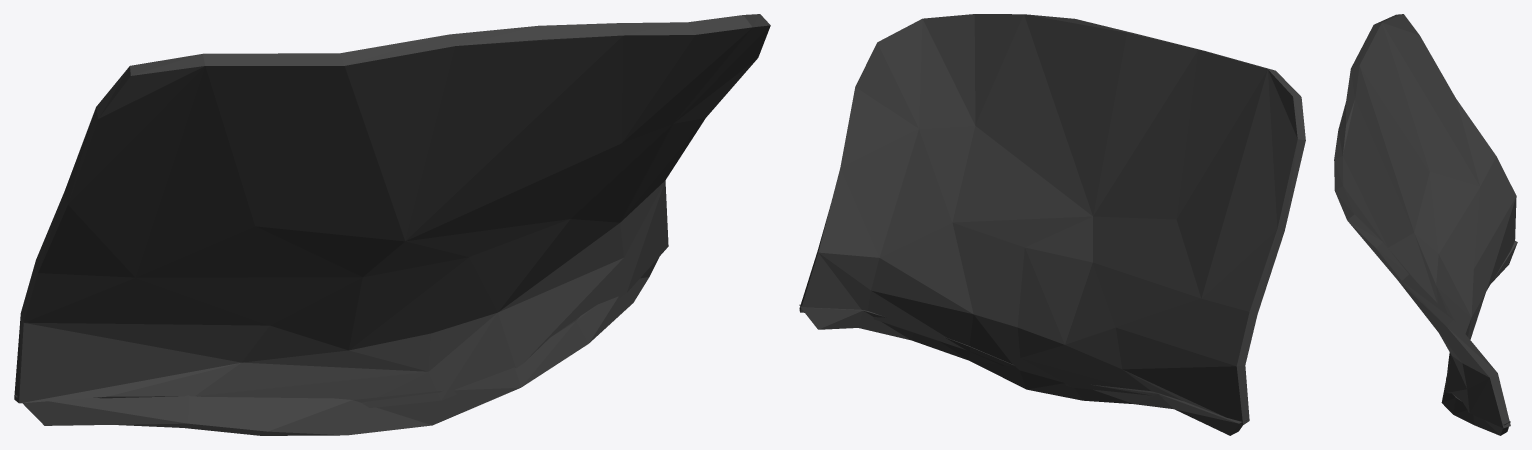
Rendered from c1_fovea_for_dens.glb.
3 renders of one model, left to right at view 1: azimuth 30°, elevation 25°; view 2: azimuth 150°, elevation 25°; view 3: azimuth 270°, elevation 25°, orthographic. The views are drawn at different scales.
Parts seen in each view (by area): view 1: c1_fovea_for_dens; view 2: c1_fovea_for_dens; view 3: c1_fovea_for_dens.
Boxes of the visible parts, left/top/right/bottom form: c1_fovea_for_dens: left=14, top=14, right=770, bottom=435; c1_fovea_for_dens: left=799, top=14, right=1305, bottom=435; c1_fovea_for_dens: left=1334, top=14, right=1517, bottom=435.
Bounding box in the file's own units: 10.39 × 7.36 × 4.27.
Materials: 1 (1 with a texture image).
